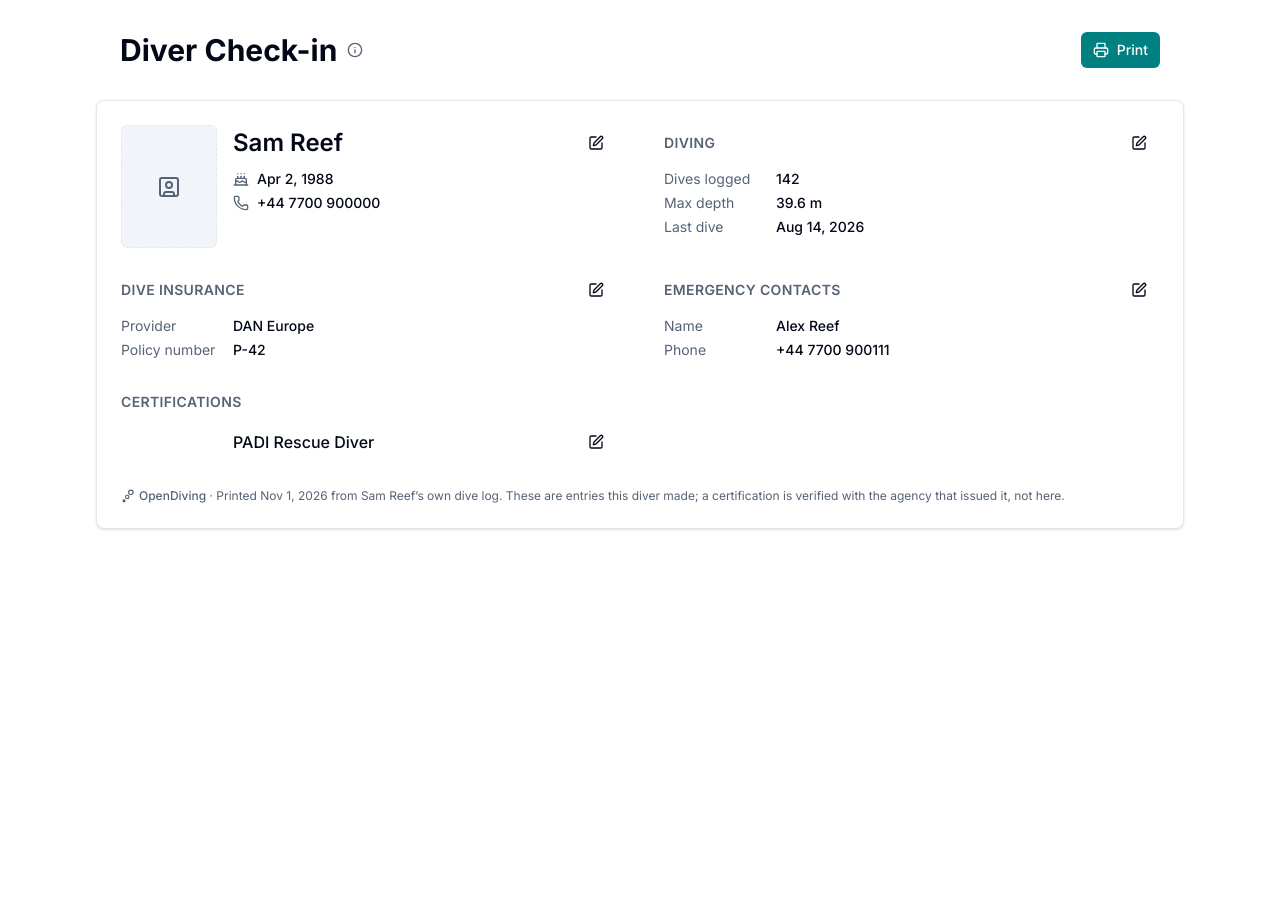
Test case: correcting the diving figures › prints what the diver typed, and says it went nowhere
Expected: the text "142" is shown, [776, 170, 800, 187]
Click the button named "Correct these figures" at (1139, 143), box [1119, 125, 1159, 161]
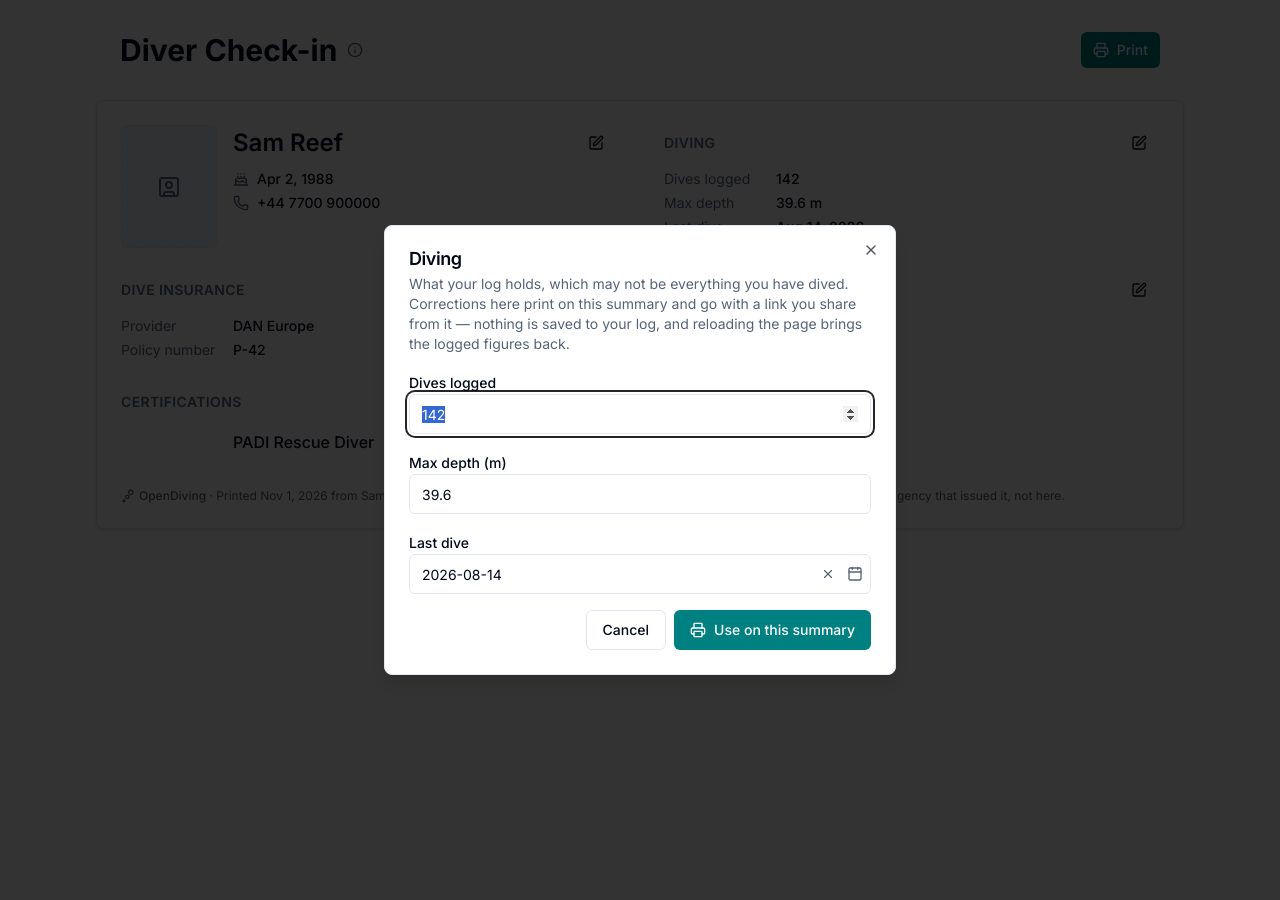
Replace the text in the number field labelled "Dives logged" with "310" at (640, 414), box [409, 394, 871, 434]
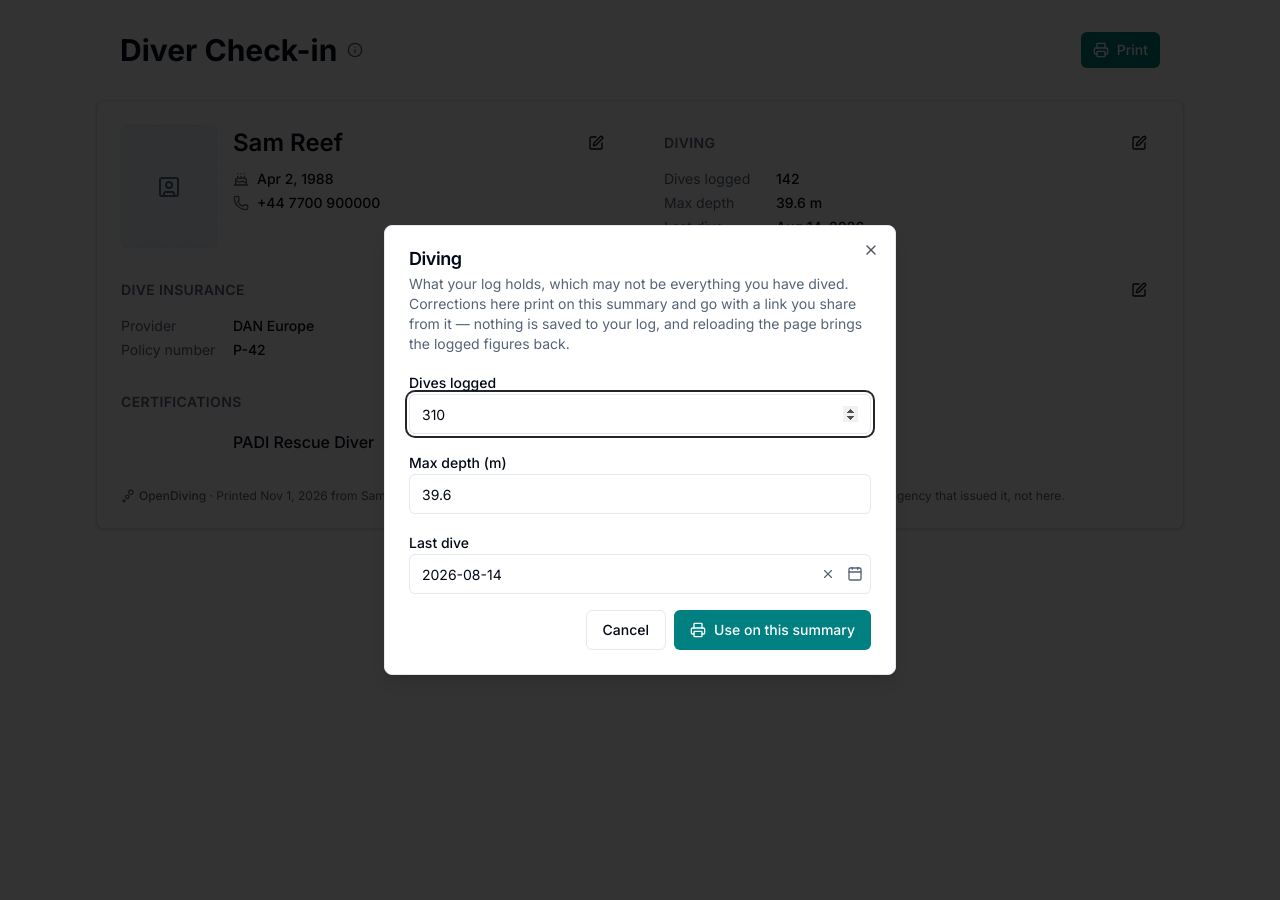
Click the button "Use on this summary" at (773, 630), box [674, 610, 871, 650]
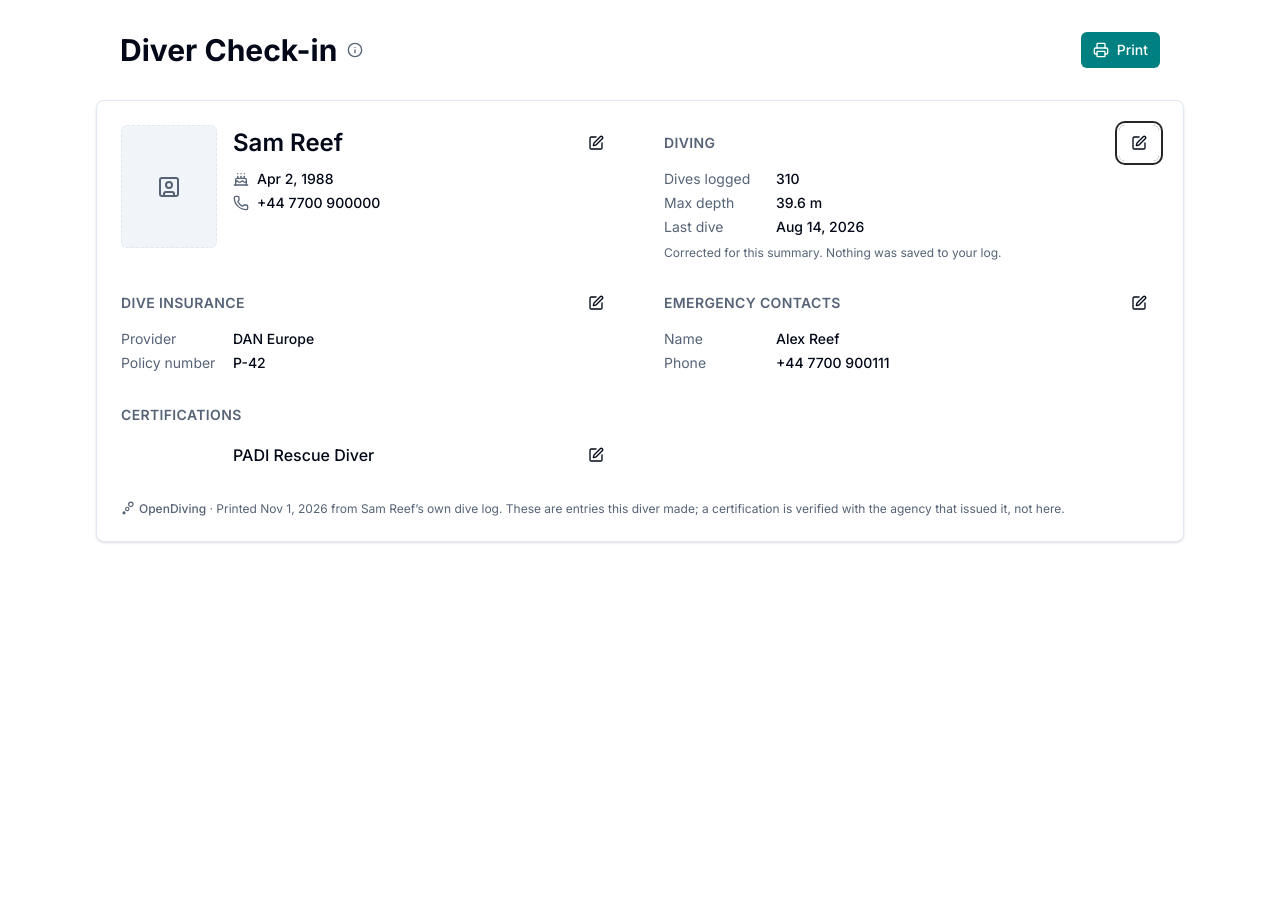
Expected: the text "310" is shown, [776, 170, 800, 187]
Expected: the text "142" is gone
Expected: the text "Corrected for this summary. Nothing was saved to your log." is shown, [664, 245, 1002, 260]
